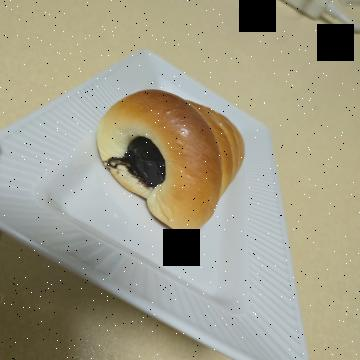cream horn: (70, 97, 260, 270)
